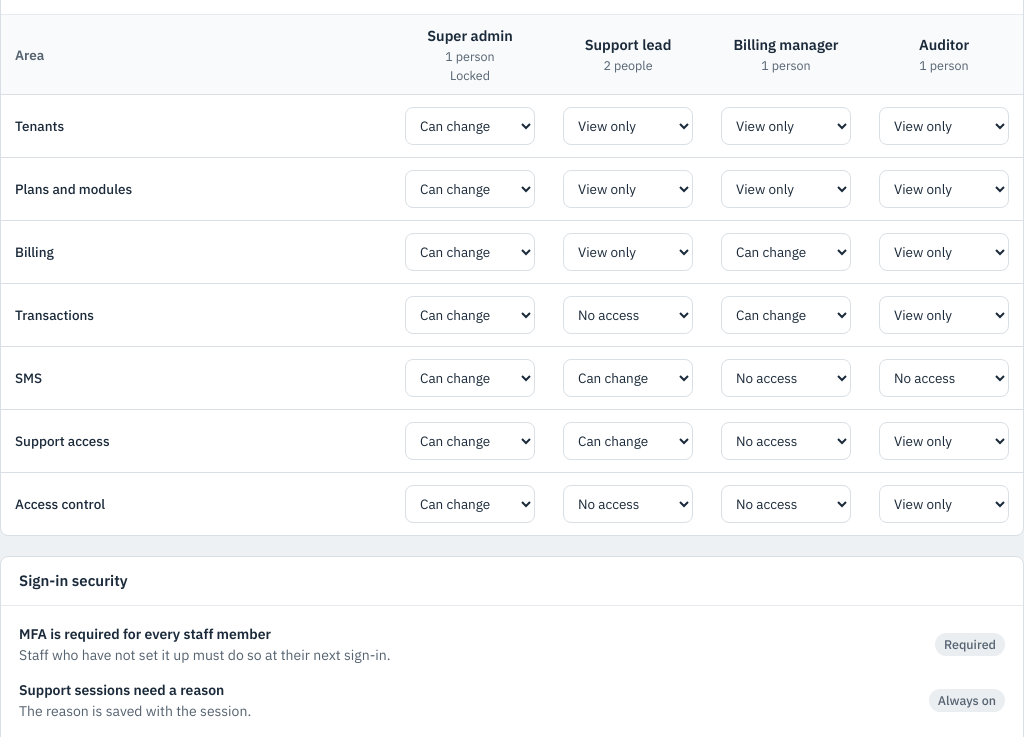
Test: role matrix: editing › saves a change that takes nothing away at once: only the changed role, the highest key per area, the version it loaded
(page scrolled)
Expected: the column heading "Super admin 1 person Locked" is shown, [391, 15, 549, 95]
Select "View only" in the dropdown named "SMS for Billing manager": (786, 378) [721, 359, 851, 397]
(page scrolled)
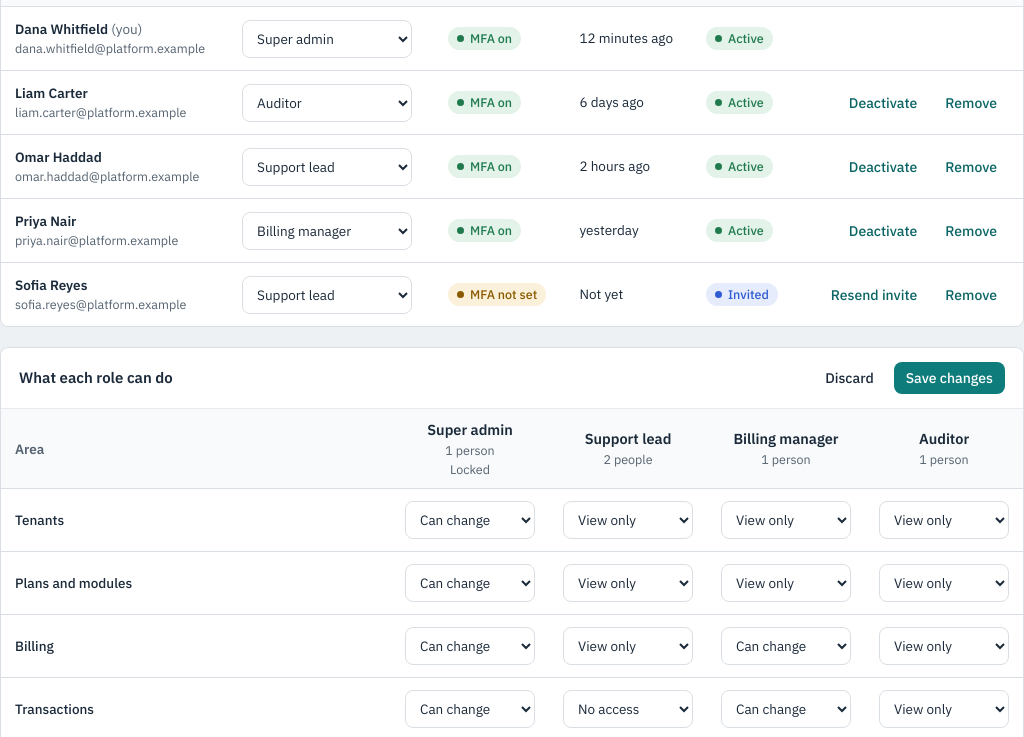
Click the button "Save changes": (949, 378) [894, 362, 1005, 394]
(page scrolled)
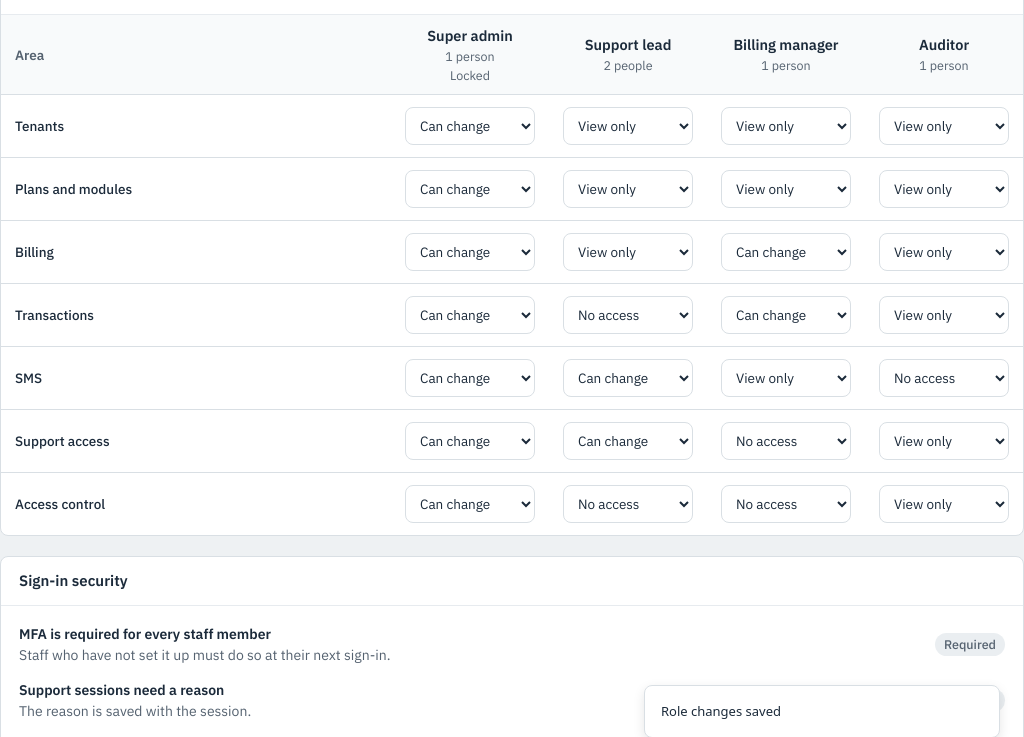
Expected: the text "Role changes saved" is shown, [661, 702, 781, 721]
